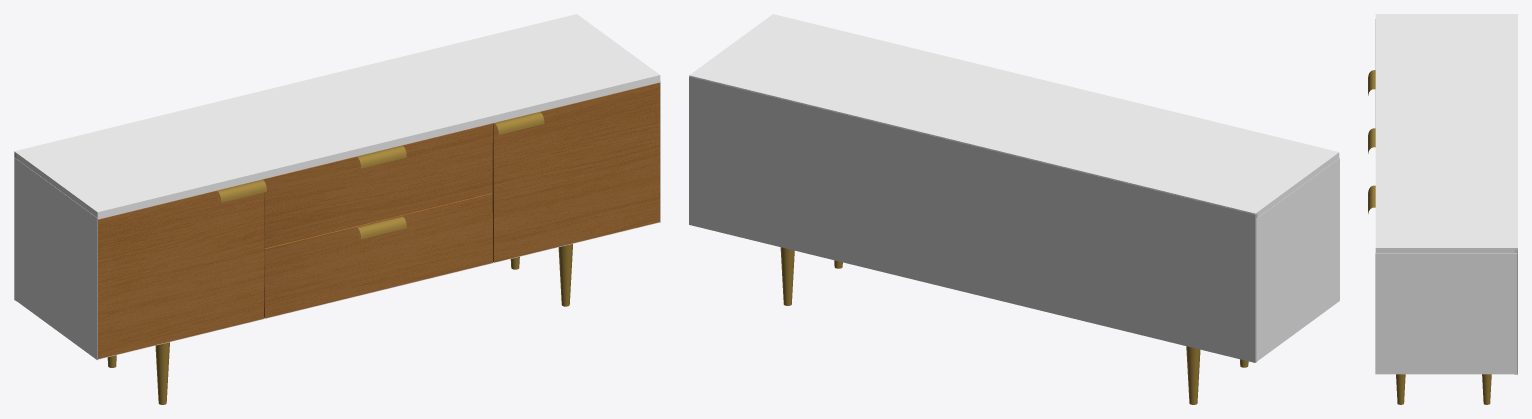
The model's file is some.glb.
The picture shows the model from 3 angles, left to right: view 1: azimuth 30°, elevation 25°; view 2: azimuth 150°, elevation 25°; view 3: azimuth 270°, elevation 25°; orthographic projection. The views are drawn at different scales.
Parts seen in each view (by area): view 1: Cube, Cube_1 (×2), Box 1, Cone, Cone_3, Extrude_2, Extrude_1, Extrude, Extrude_3; view 2: Box, Cube_1, Box 1, Cone_2, Cone_1; view 3: Cube_1, Box 2, Cone_2, Cone_3, Extrude_1, Extrude, Extrude_2.
Part boxes in pixels (<box>): Cube: <box>98,82,659,358</box>; Cube_1 (×2): <box>14,14,660,359</box>; Box 1: <box>14,158,97,360</box>; Cone: <box>155,342,169,404</box>; Cone_3: <box>558,244,572,306</box>; Extrude_2: <box>494,112,544,134</box>; Extrude_1: <box>357,145,406,168</box>; Extrude: <box>217,179,266,202</box>; Extrude_3: <box>357,216,406,239</box>; Box: <box>689,76,1257,362</box>; Cube_1: <box>689,14,1339,217</box>; Box 1: <box>1256,158,1339,361</box>; Cone_2: <box>780,247,794,305</box>; Cone_1: <box>1186,346,1200,404</box>; Cube_1: <box>1375,14,1517,254</box>; Box 2: <box>1375,253,1516,374</box>; Cone_2: <box>1482,374,1491,404</box>; Cone_3: <box>1396,374,1405,404</box>; Extrude_1: <box>1368,128,1375,153</box>; Extrude: <box>1368,70,1375,95</box>; Extrude_2: <box>1368,185,1375,210</box>.
Bounding box in the file's own units: 1.92 × 0.7214 × 0.5193.
7 materials, 1 textured.
